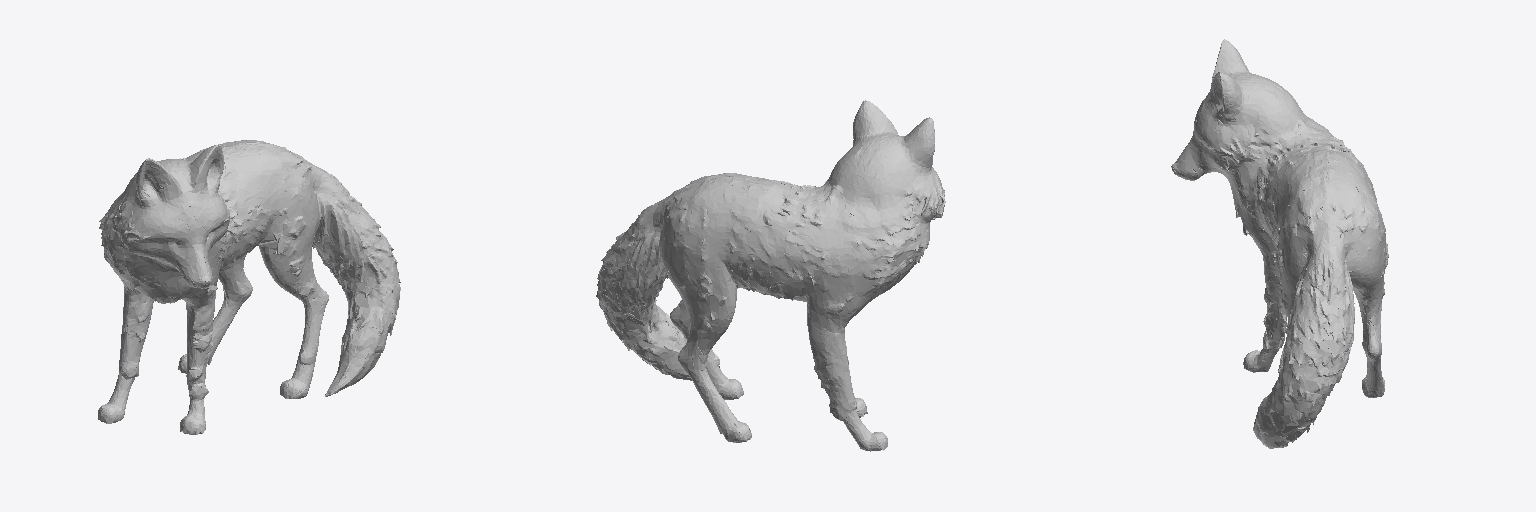
File: test_quad_v2.obj
3 views of the same model, side by side, from view 1: azimuth 30°, elevation 25°; view 2: azimuth 150°, elevation 25°; view 3: azimuth 270°, elevation 25° (orthographic).
Size of the model in its own units: 1.98 by 1.85 by 1.21.